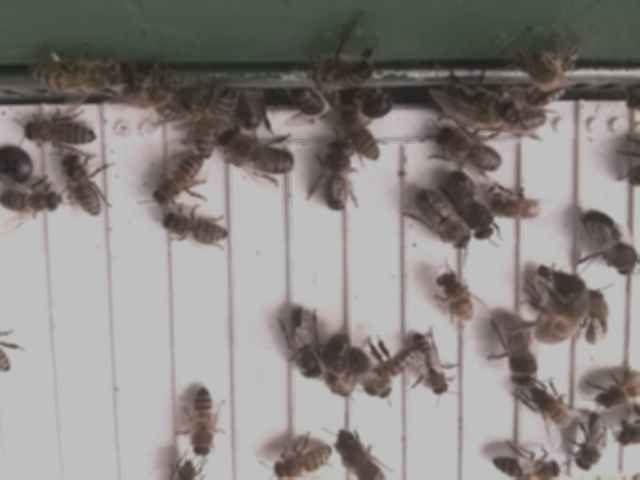Drone: (580, 208, 640, 278), (218, 130, 296, 180), (446, 169, 496, 245), (414, 188, 471, 252), (437, 127, 506, 177), (497, 311, 538, 391), (287, 304, 322, 381), (323, 136, 355, 216), (322, 334, 353, 403)
Worker: (62, 150, 106, 221), (151, 153, 206, 208), (409, 333, 452, 399), (22, 115, 99, 149), (435, 270, 478, 328), (160, 214, 232, 248), (273, 442, 337, 480), (343, 108, 384, 166), (189, 386, 220, 460), (574, 409, 609, 473), (487, 453, 565, 480), (529, 389, 575, 434), (583, 286, 612, 352), (0, 186, 63, 216), (490, 192, 546, 225)
